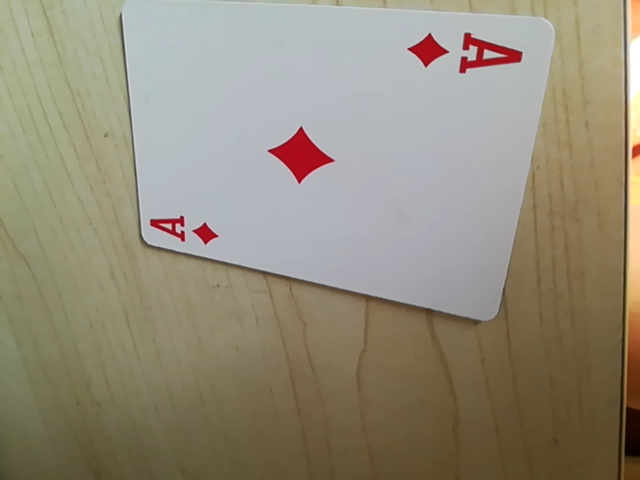fk a: (406, 24, 527, 83), (144, 207, 226, 251)
